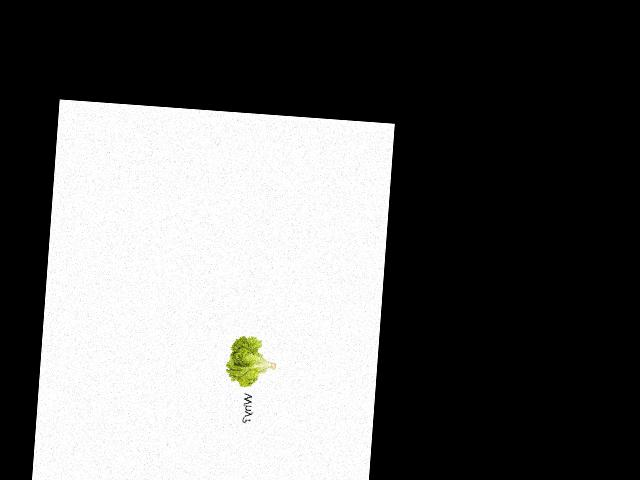lettuce: (223, 333, 279, 394)
